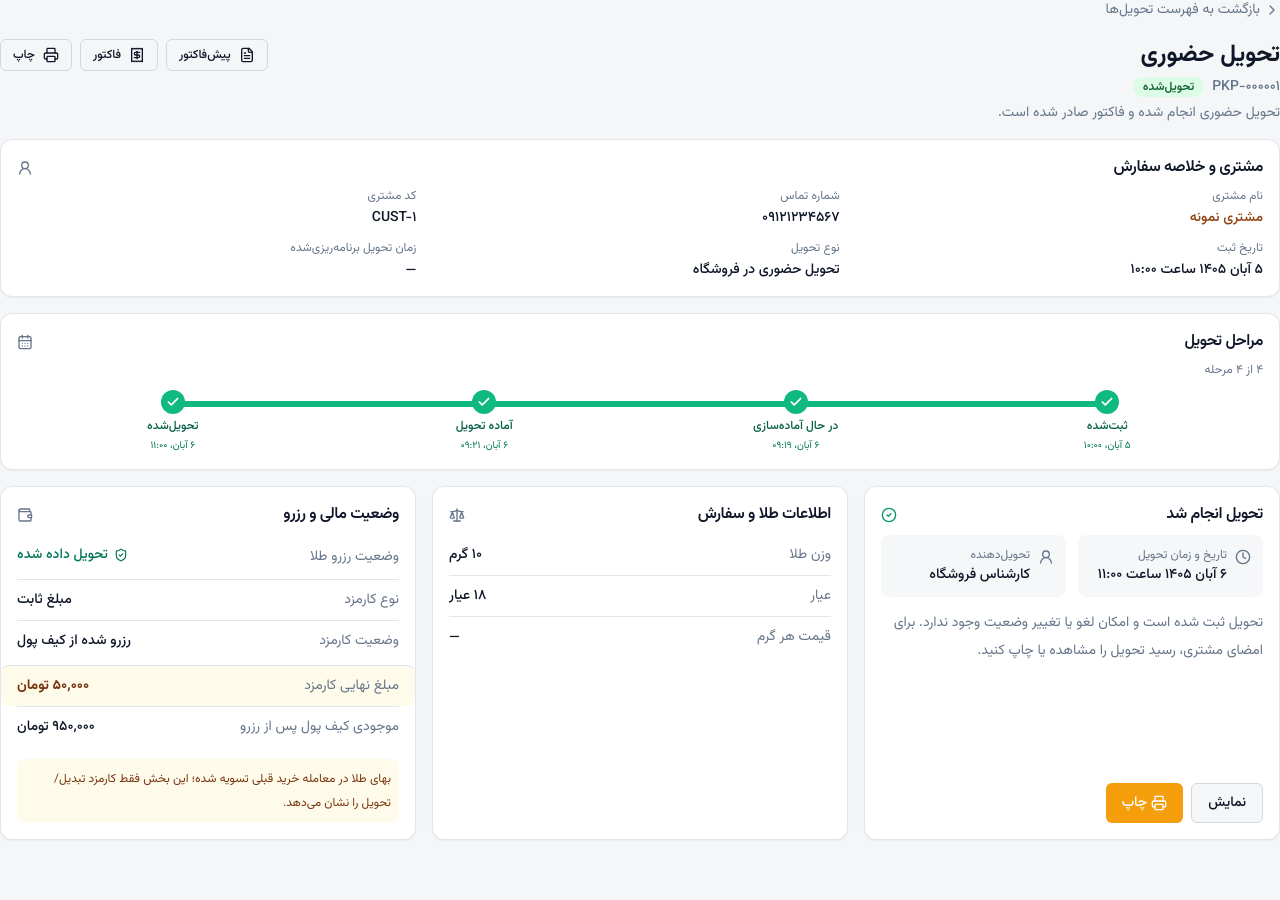
Test case: pickup detail page › offers a signable receipt for a delivered pickup
Step 1. Click the button "نمایش" → x=1227, y=803, box [1191,783,1263,823]
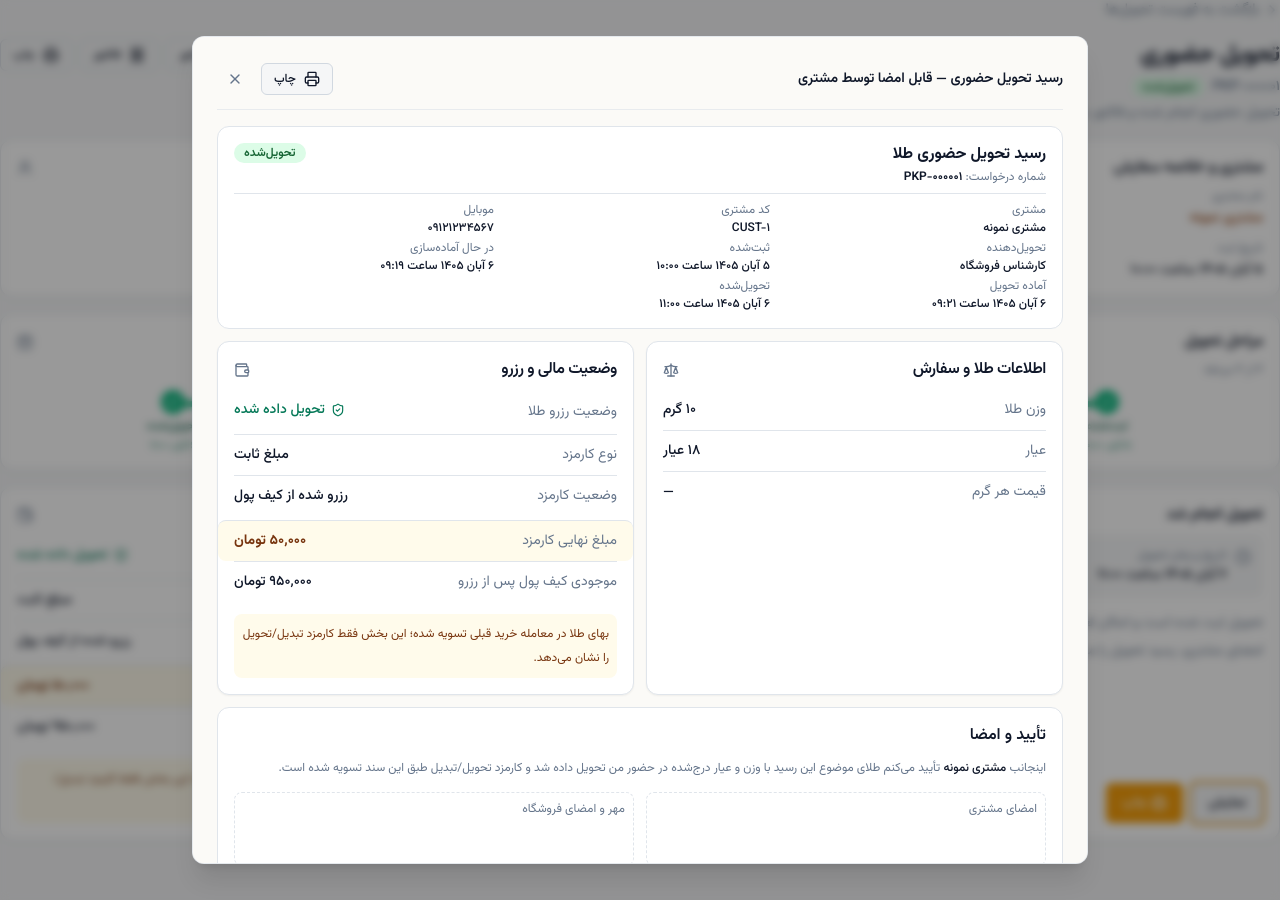
Result: the text "رسید تحویل حضوری طلا" is shown at [893,143,1046,167]
Result: the heading "اطلاعات طلا و سفارش" is shown at [913,358,1046,382]
Result: the heading "وضعیت مالی و رزرو" is shown at [501,358,617,382]
